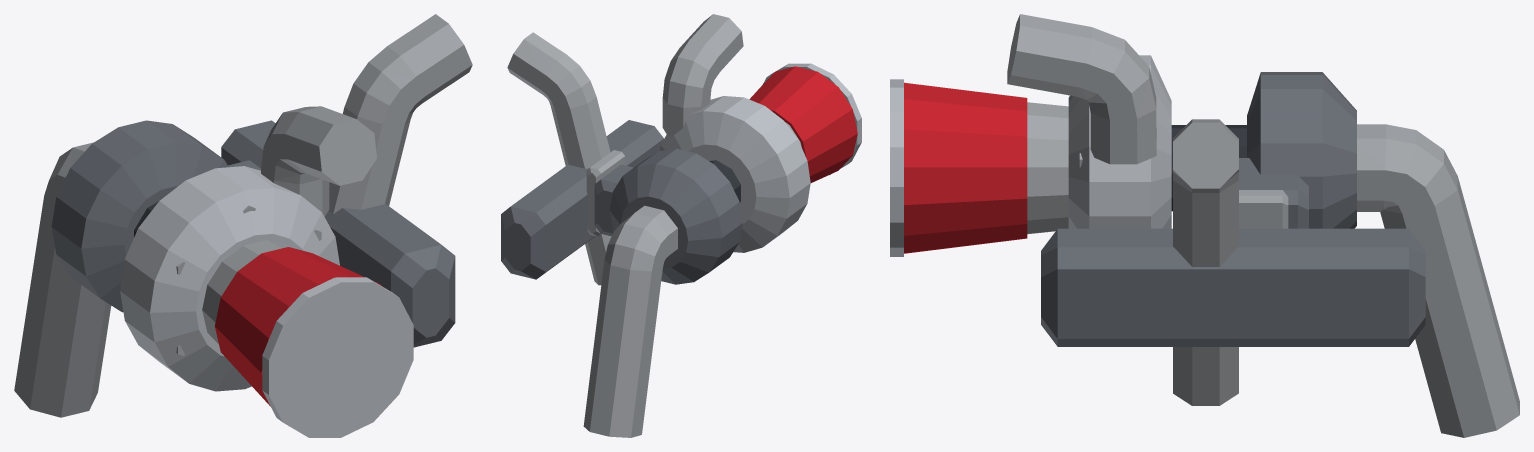
File: ridgeback_4x4.glb
The picture shows the model from 3 angles, left to right: view 1: azimuth 30°, elevation 25°; view 2: azimuth 150°, elevation 25°; view 3: azimuth 270°, elevation 25°; orthographic projection. The views are drawn at different scales.
Parts seen in each view (by area): view 1: model; view 2: model; view 3: model.
Part boxes in pixels (x1=…): model: x1=14, y1=14, x2=472, y2=437; model: x1=501, y1=14, x2=861, y2=437; model: x1=890, y1=14, x2=1519, y2=437.
Bounding box in the file's own units: 0.3214 × 0.3535 × 0.4587.
Materials: 2 (1 with a texture image).
